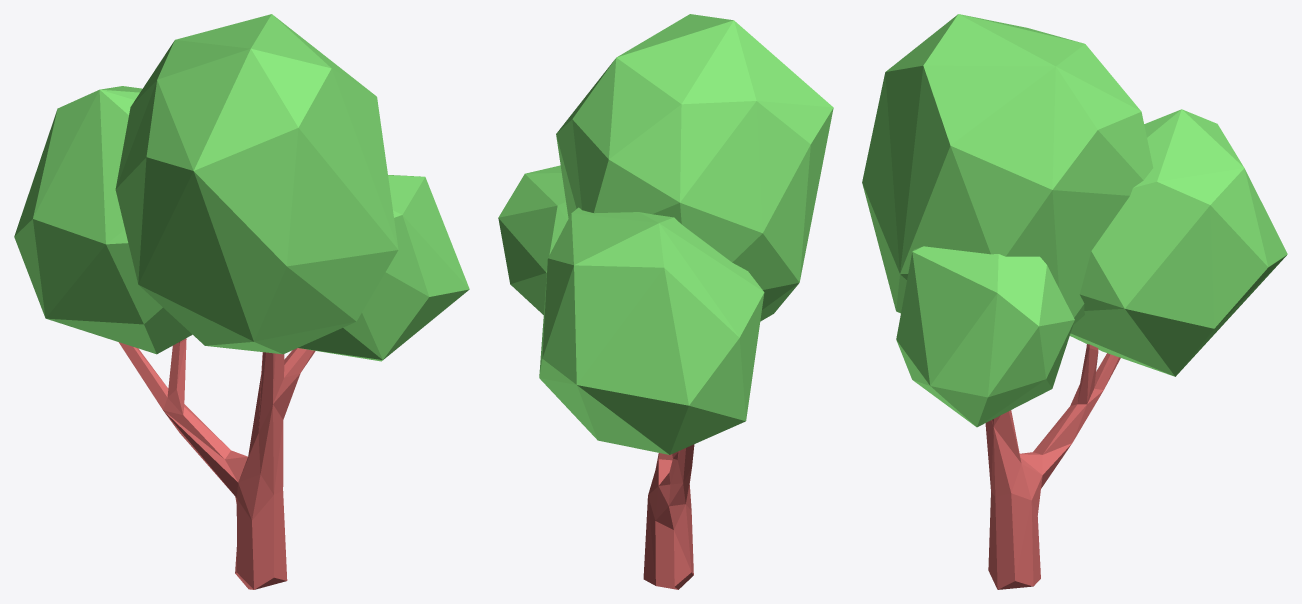
Rendered from tree_7.fbx.
3 renders of one model, left to right at view 1: azimuth 30°, elevation 25°; view 2: azimuth 150°, elevation 25°; view 3: azimuth 270°, elevation 25°, orthographic. The views are drawn at different scales.
Visible parts, largest first — view 1: Plane.007; view 2: Plane.007; view 3: Plane.007.
Boxes of the visible parts, bbox=[...] form: Plane.007: bbox=[14, 14, 469, 589]; Plane.007: bbox=[498, 14, 833, 589]; Plane.007: bbox=[862, 14, 1287, 589].
Size of the model in its own units: 809 by 1347 by 933.
